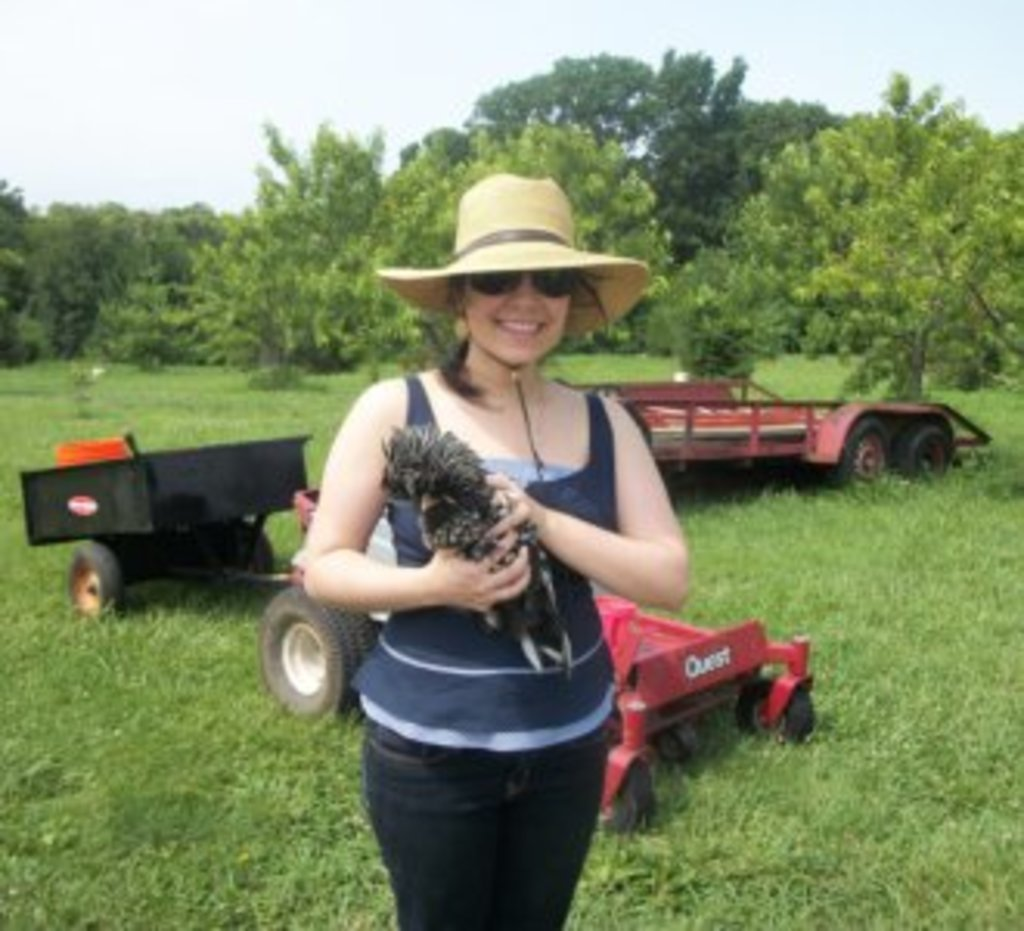Human_hand: (424, 528, 530, 612), (481, 466, 531, 526)
